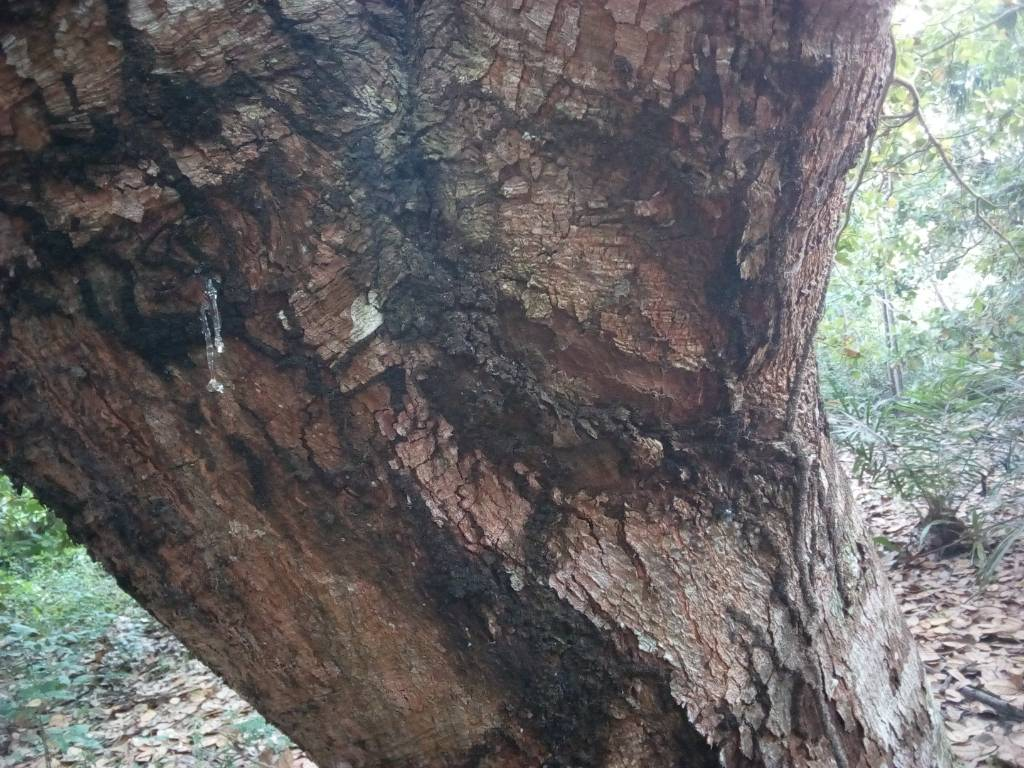Termites: (61, 136, 349, 501), (358, 134, 614, 525), (721, 143, 847, 606), (437, 546, 649, 749)
